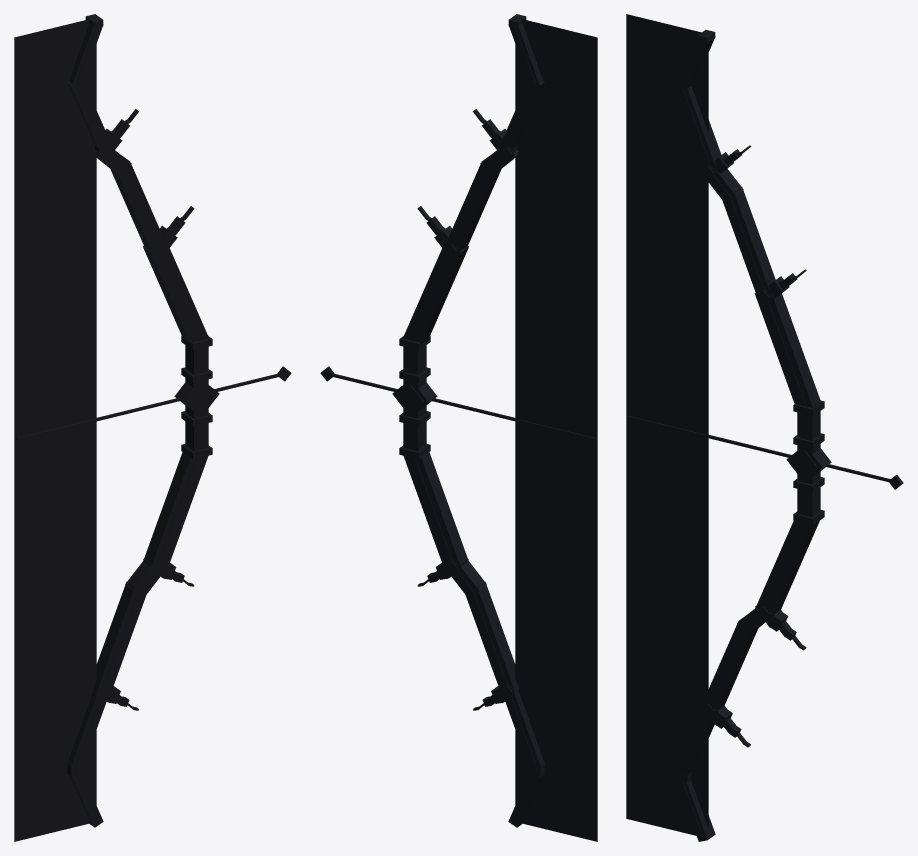
The model's file is requiem_recurve_pulling_2_smooth.obj.
3 renders of one model, left to right at view 1: azimuth 30°, elevation 25°; view 2: azimuth 150°, elevation 25°; view 3: azimuth 330°, elevation 25°, orthographic.
Parts seen in each view (by area): view 1: requiem_recurve_pulling_2; view 2: requiem_recurve_pulling_2; view 3: requiem_recurve_pulling_2.
Boxes of the visible parts, bbox=[...] form: requiem_recurve_pulling_2: bbox=[14, 14, 291, 841]; requiem_recurve_pulling_2: bbox=[320, 14, 597, 841]; requiem_recurve_pulling_2: bbox=[626, 14, 903, 841].
Size of the model in its own units: 0.9943 by 2.77 by 0.0717.
